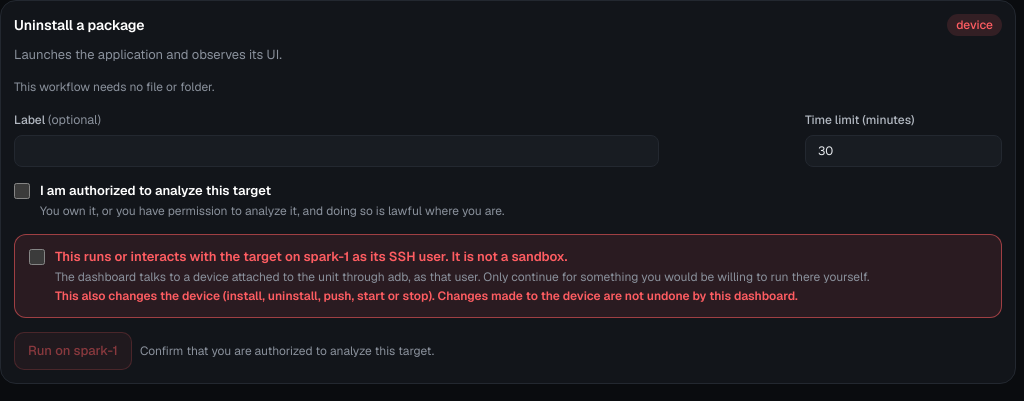
Test case: RunForm › adds the device line and is blocked while device writes are off
The image size is (1024, 401).
What coordinates should you click on to do the following:
click the 1st checkbox
I would click on:
 (22, 191)
Its box is [14, 183, 30, 199].
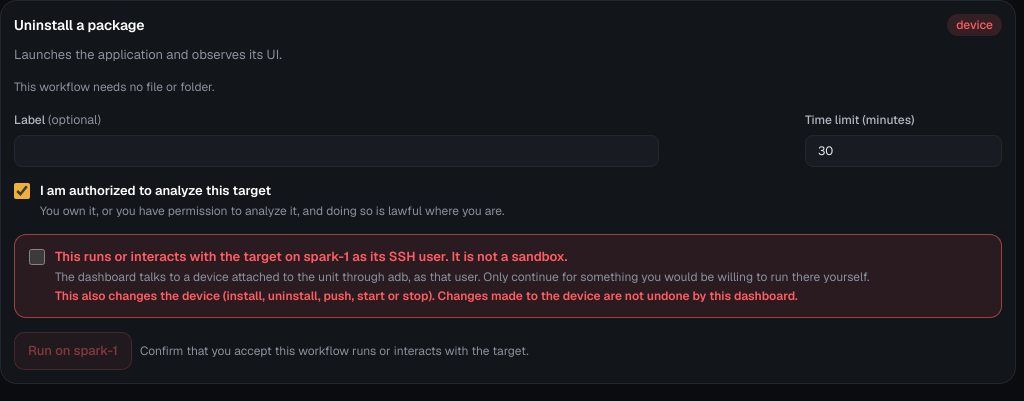
What coordinates should you click on to do the following:
click the 2nd checkbox
I would click on:
 (37, 257)
Its box is [29, 249, 45, 265].
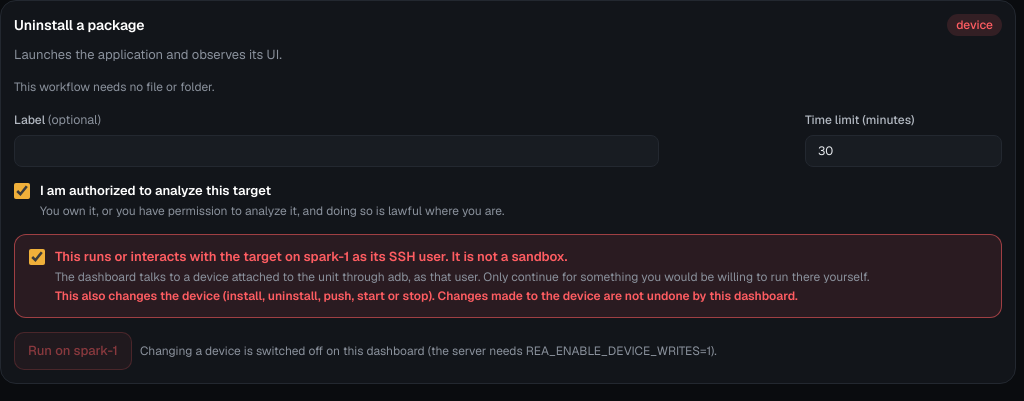
Expected: the submit button is disabled, [14, 332, 132, 370]
Now the text "REA_ENABLE_DEVICE_WRITES=1" is shown, box [140, 342, 717, 358]
